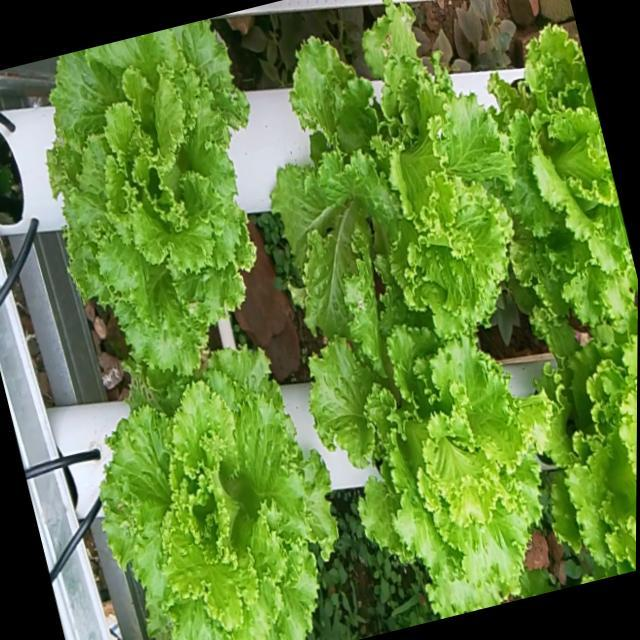Mature: (274, 0, 521, 334), (51, 18, 260, 389), (314, 297, 552, 616), (108, 348, 345, 640), (493, 11, 638, 314), (551, 308, 638, 576)
